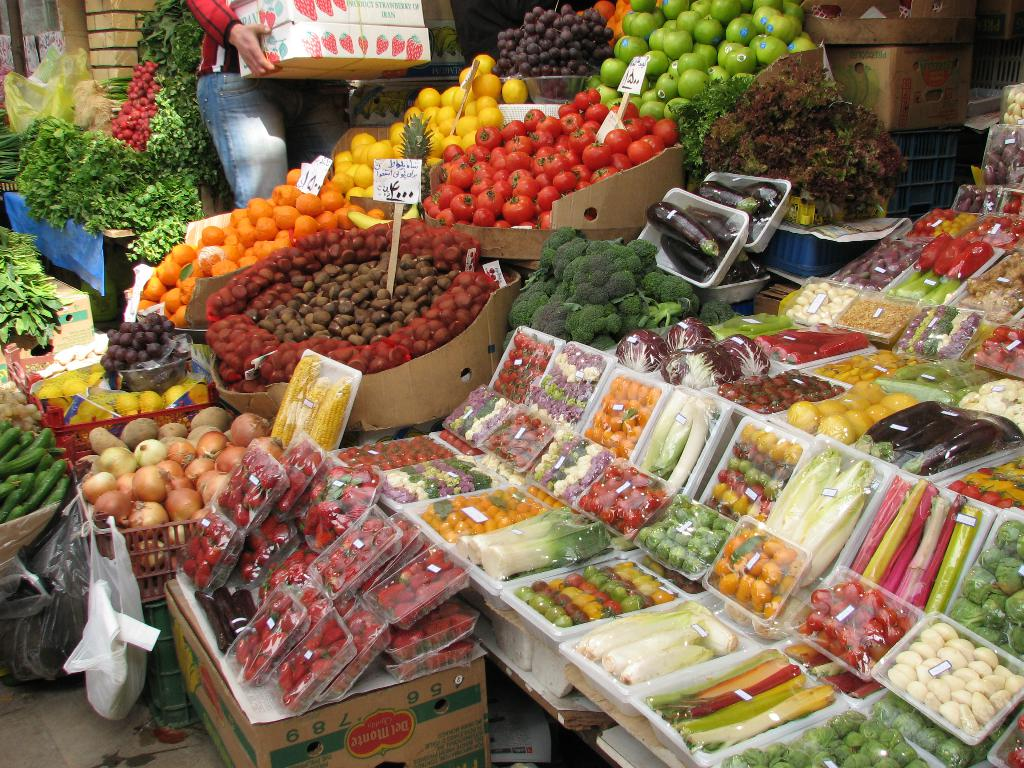Person: (183, 0, 408, 211)
